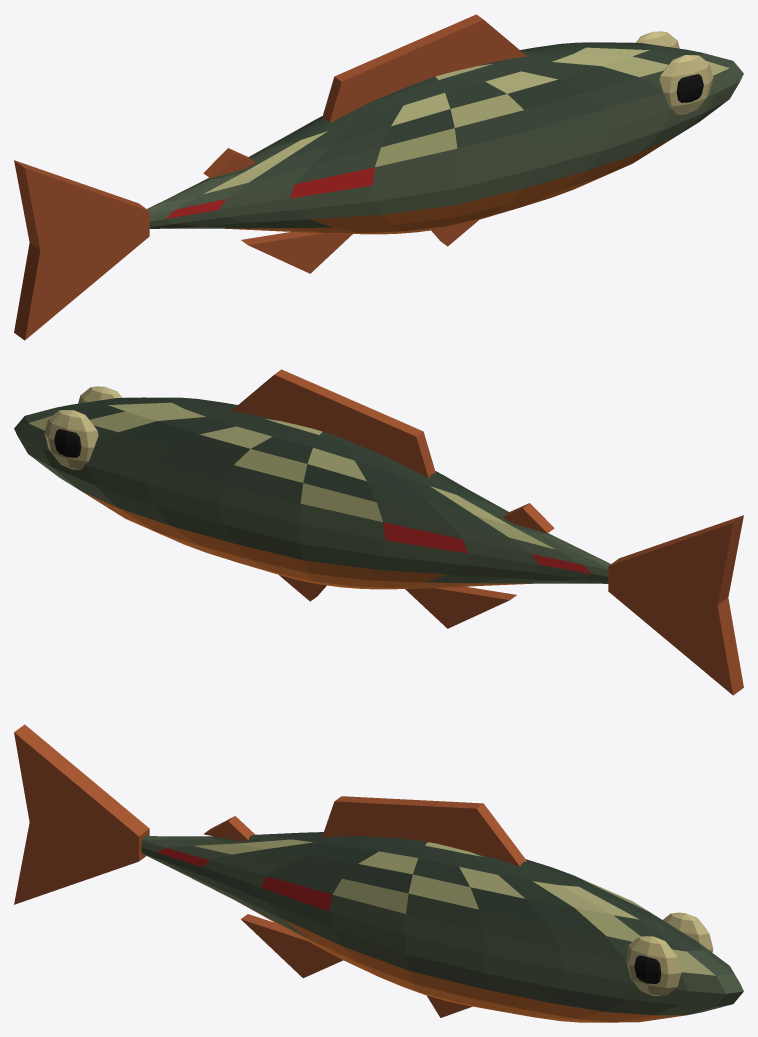
Rendered from BrookTrout.fbx.
The picture shows the model from 3 angles, top to bottom: view 1: azimuth 30°, elevation 25°; view 2: azimuth 150°, elevation 25°; view 3: azimuth 330°, elevation 25°; orthographic projection.
Visible parts, largest first — view 1: BrookTrout; view 2: BrookTrout; view 3: BrookTrout.
Boxes of the visible parts, x1=… form: BrookTrout: x1=14, y1=14, x2=743, y2=340; BrookTrout: x1=14, y1=369, x2=743, y2=695; BrookTrout: x1=14, y1=724, x2=743, y2=1022.
Size of the model in its own units: 2.8 by 0.8069 by 0.3569.
